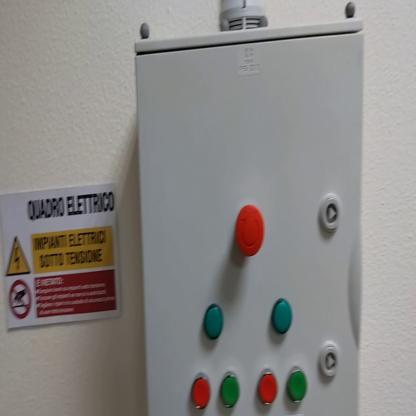left green button: (221, 374, 239, 407)
left red button: (193, 375, 210, 410)
right green button: (288, 370, 308, 404)
right red button: (260, 372, 278, 404)
